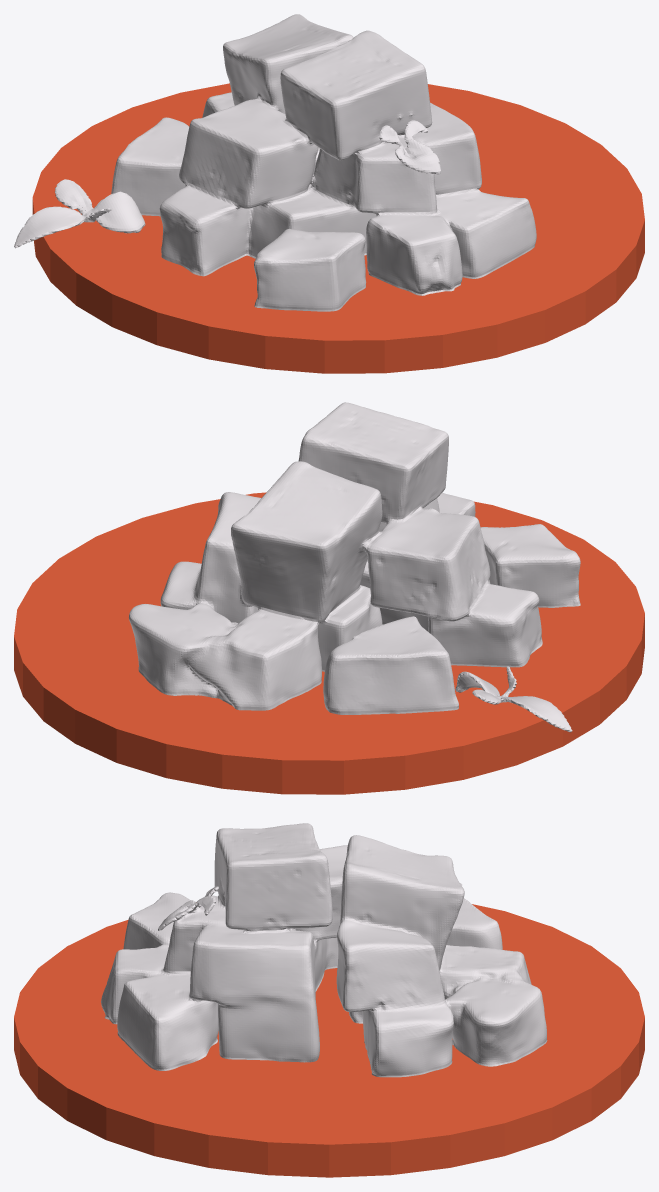
File: panner (1).glb
The picture shows the model from 3 angles, top to bottom: view 1: azimuth 30°, elevation 25°; view 2: azimuth 150°, elevation 25°; view 3: azimuth 270°, elevation 25°; orthographic projection. The views are drawn at different scales.
Parts seen in each view (by area): view 1: tmpmypj4hxh.ply, Cylinder; view 2: tmpmypj4hxh.ply, Cylinder; view 3: Cylinder, tmpmypj4hxh.ply.
Part boxes in pixels (x1=…): tmpmypj4hxh.ply: x1=14, y1=14, x2=536, y2=311; Cylinder: x1=32, y1=83, x2=644, y2=373; tmpmypj4hxh.ply: x1=129, y1=402, x2=580, y2=732; Cylinder: x1=14, y1=492, x2=644, y2=794; Cylinder: x1=14, y1=904, x2=644, y2=1177; tmpmypj4hxh.ply: x1=101, y1=823, x2=547, y2=1077.
Bounding box in the file's own units: 2.16 × 0.7932 × 2.19.
